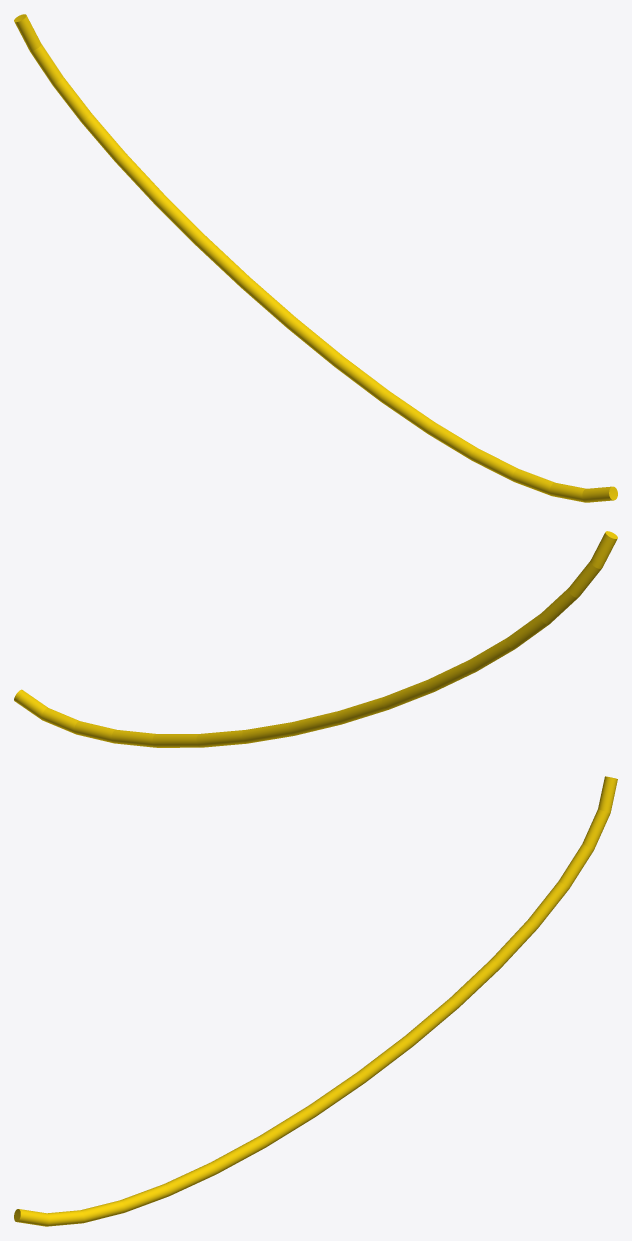
Rendered from Event_420107950_track_79.fbx.
3 renders of one model, top to bottom at view 1: azimuth 30°, elevation 25°; view 2: azimuth 210°, elevation 25°; view 3: azimuth 270°, elevation 25°, orthographic. The views are drawn at different scales.
Visible parts, largest first — view 1: Model; view 2: Model; view 3: Model.
Part boxes in pixels (<box>): Model: <box>14,14,617,502</box>; Model: <box>14,531,617,747</box>; Model: <box>14,776,617,1226</box>.
Size of the model in its own units: 0.9754 by 1.08 by 1.8.
